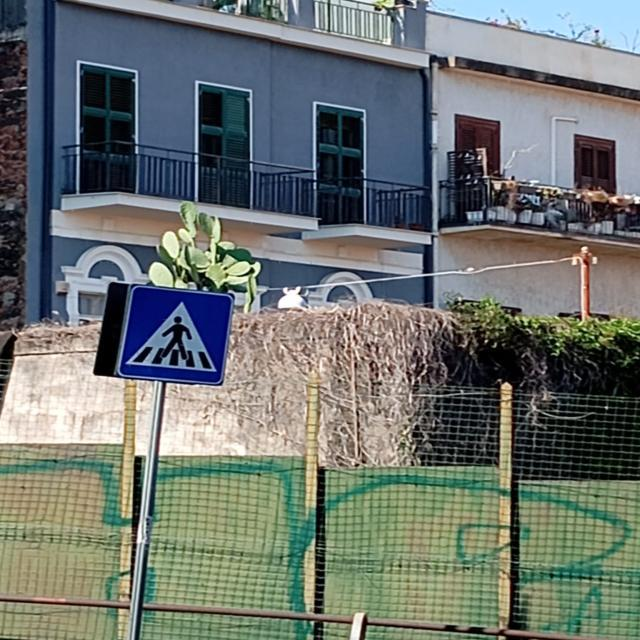info_crosswalk: (114, 281, 236, 390)
